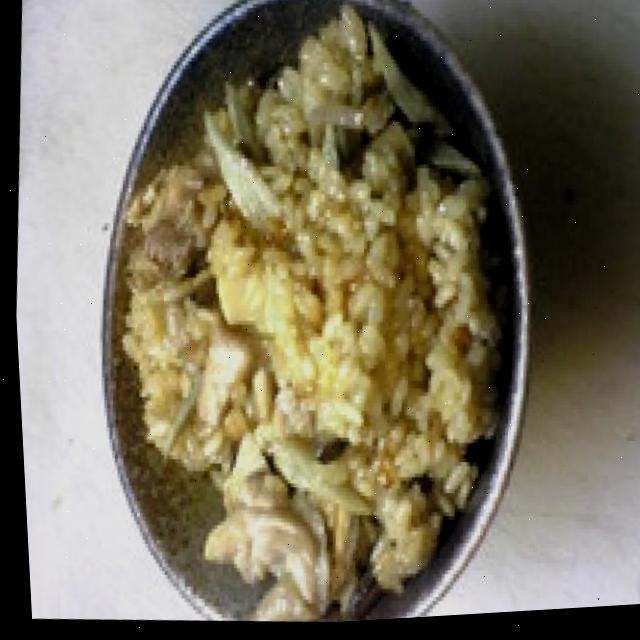米饭主食: (64, 0, 544, 637)
